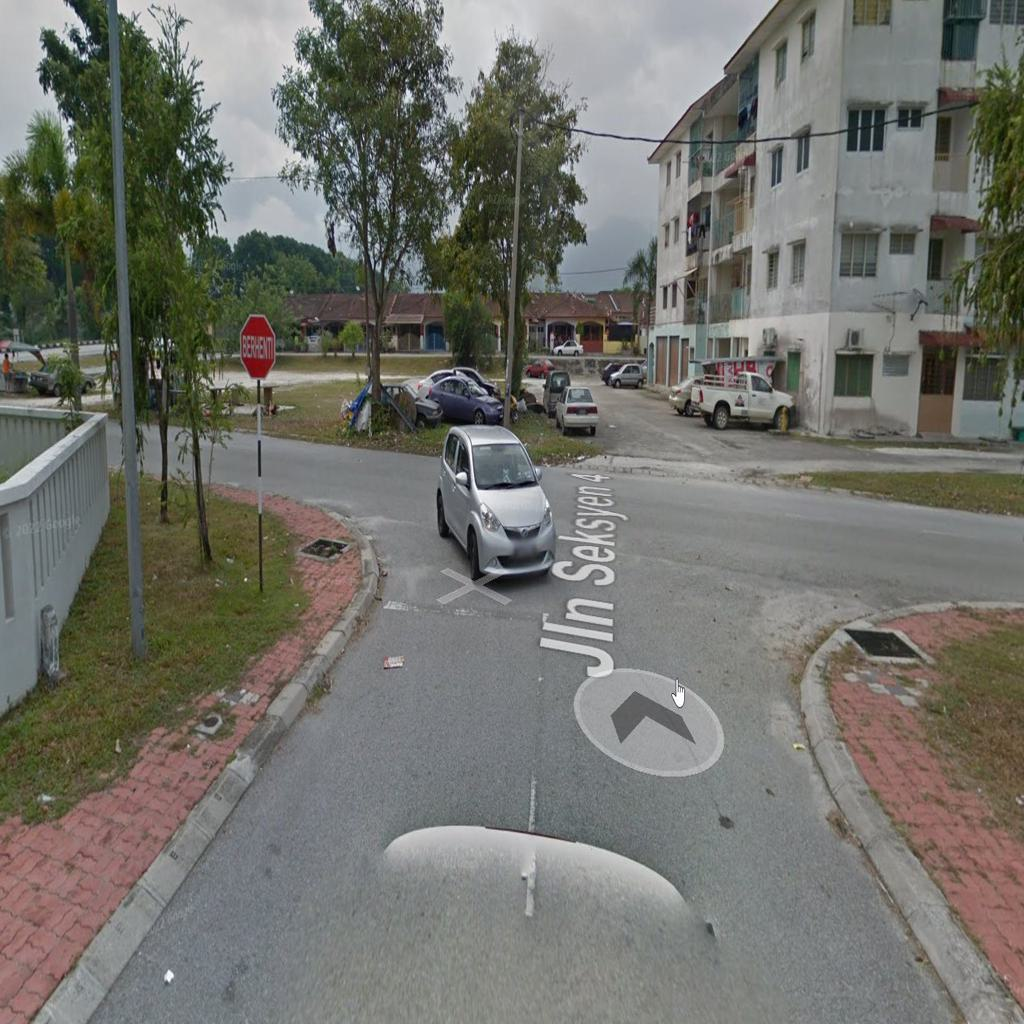Junction: (718, 467, 1024, 771), (174, 385, 430, 599)
